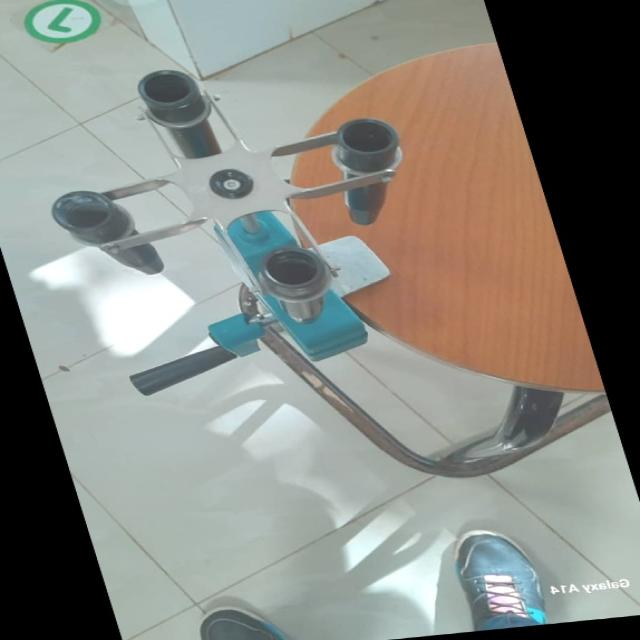Centrifuge: (0, 32, 468, 401)
